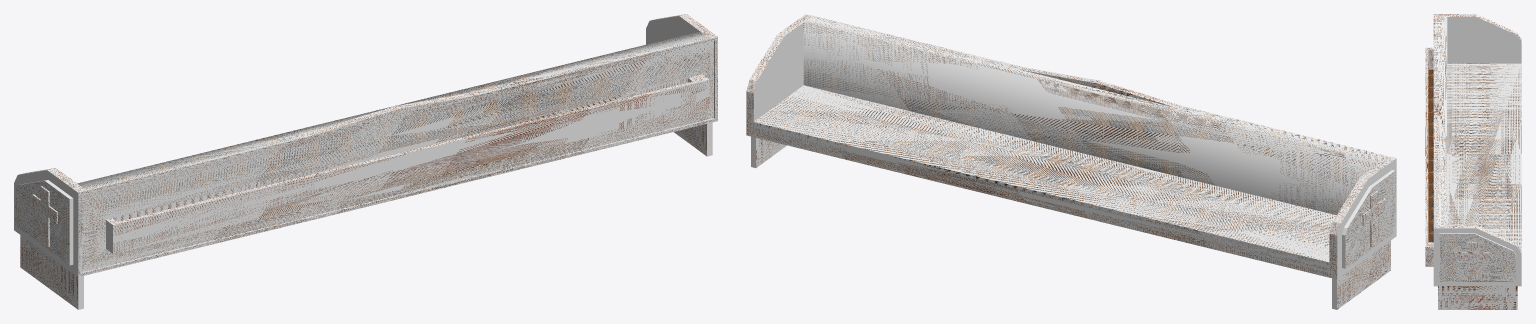
3 views of the same model, side by side, from view 1: azimuth 30°, elevation 25°; view 2: azimuth 150°, elevation 25°; view 3: azimuth 270°, elevation 25° (orthographic). The views are drawn at different scales.
Visible parts, largest first — view 1: mesh1_mesh1-geometry; view 2: mesh1_mesh1-geometry; view 3: mesh1_mesh1-geometry.
Boxes of the visible parts, box(x1,y1,x2,y2) form: mesh1_mesh1-geometry: box(14, 14, 717, 309); mesh1_mesh1-geometry: box(746, 14, 1396, 309); mesh1_mesh1-geometry: box(1425, 14, 1521, 309).
Bounding box in the file's own units: 0.9669 × 0.1792 × 0.1815.
